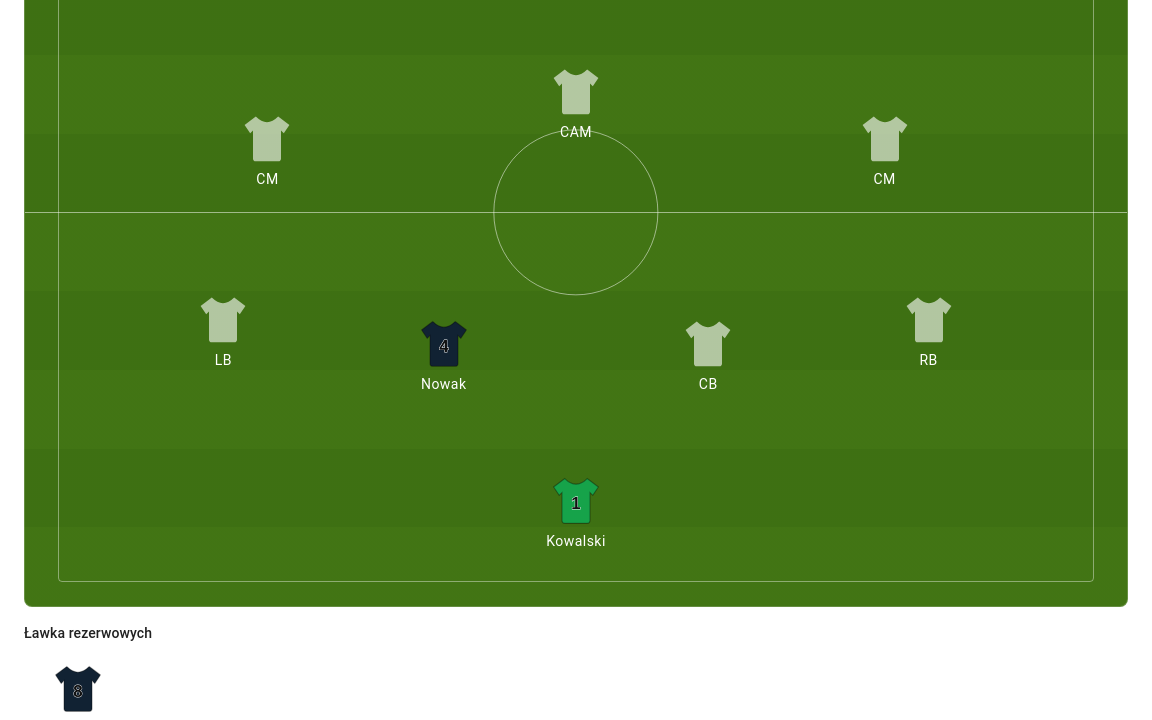
Test: choosing a player for the lineup › switches between position groups
(page scrolled)
Expected: the text "Kowalski" is shown, [546,533,606,549]
What coordinates should you click on to do the following:
click the text "LB"
I would click on:
 (223, 360)
Its box is [215,352,232,368].
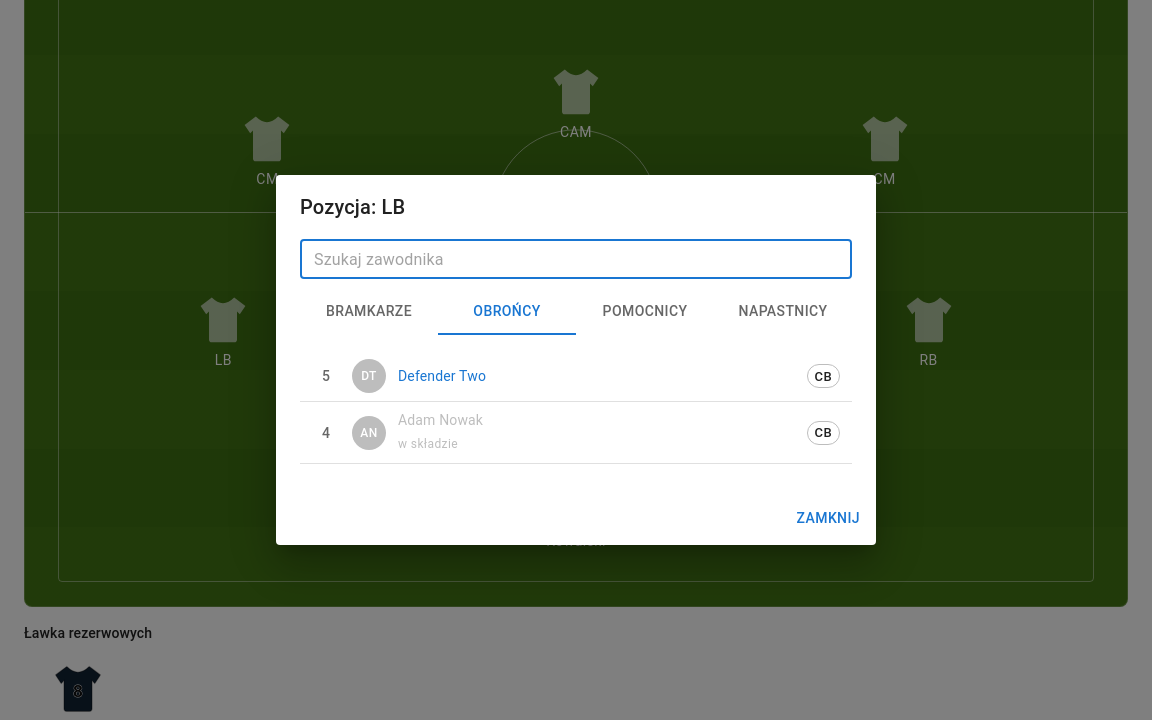
What coordinates should you click on to do the following:
click the tab "Napastnicy"
I would click on:
 (783, 312)
Its box is [714,288,852,336].
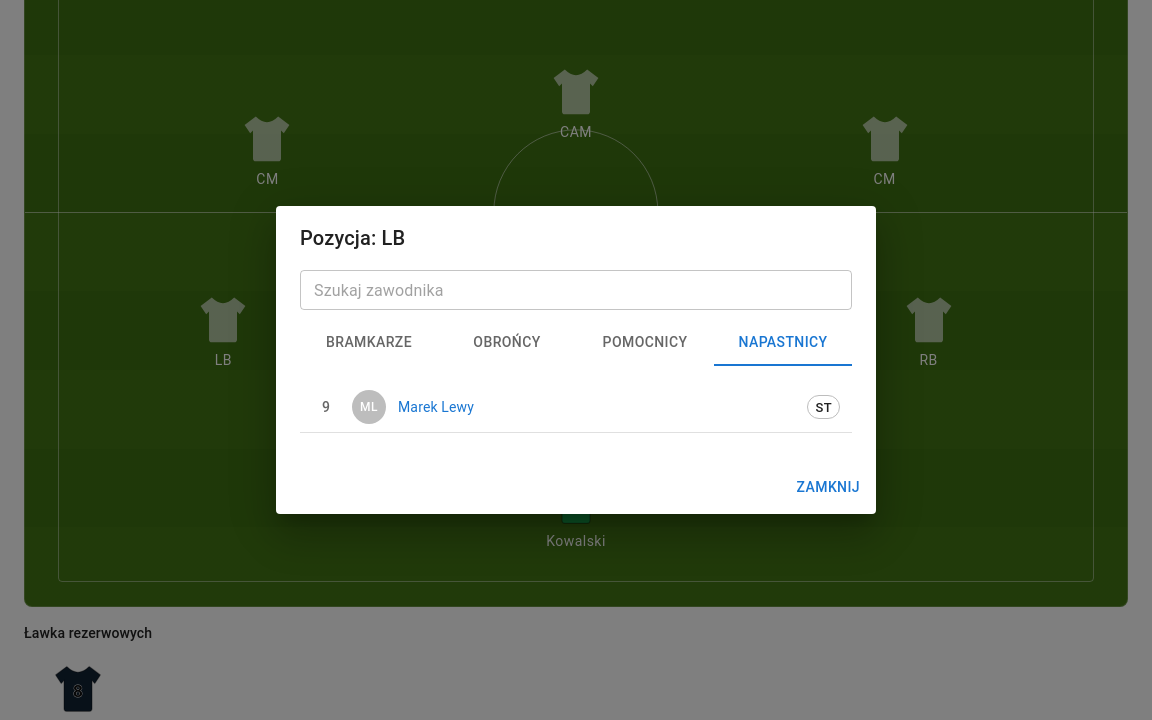
Now the button "9 ML Marek Lewy ST" is shown, box [300,382,852,432]
Now the button "Defender Two" is gone
